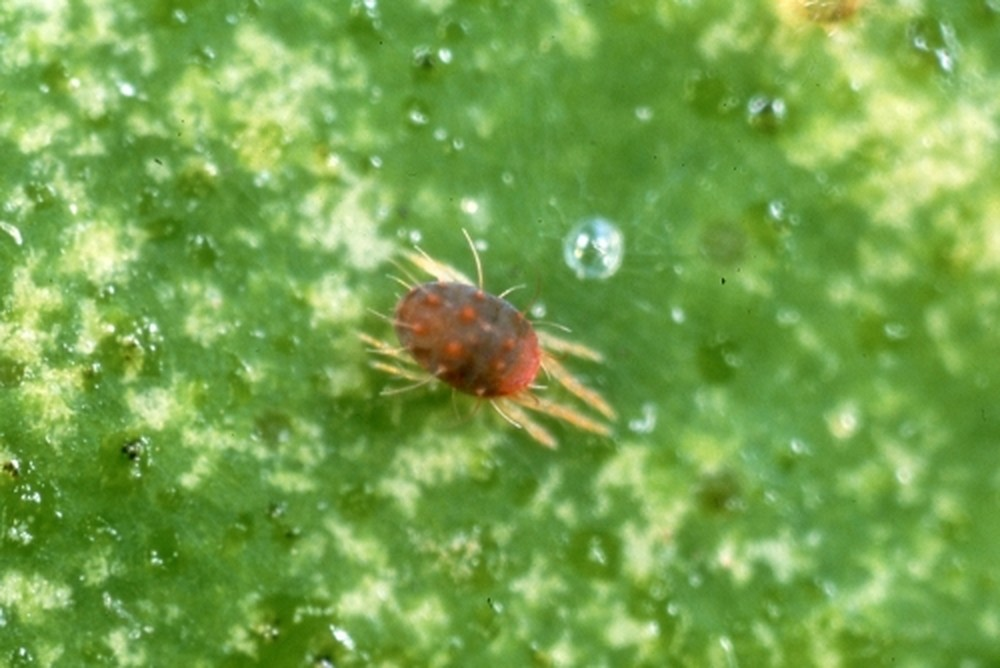Aracnido Rojo: (341, 237, 666, 474)
